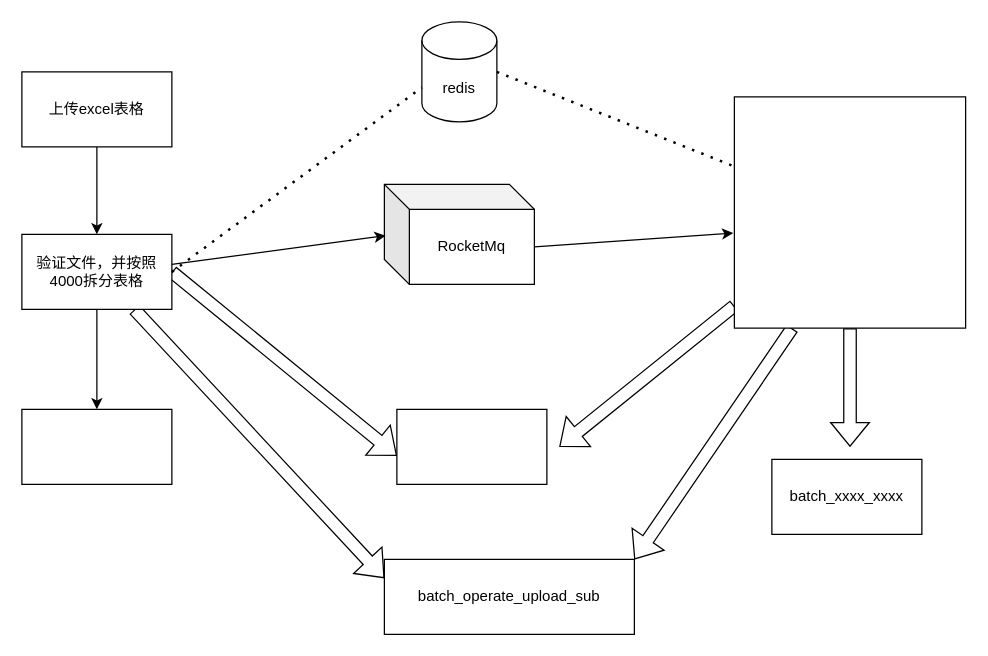
The diagram is 988 pixels wide and 656 high, and some of its shapes have lost their labels. The centre of each missing label's shape, as x and y in pixels:
batch_operate_upload: point (471, 446)
oss: point (96, 446)
消费支出 线程池 文件解析: point (849, 212)
